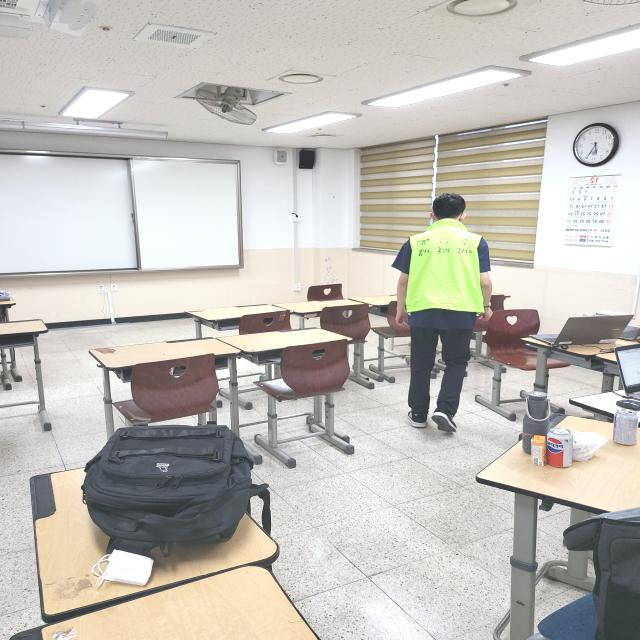weston_spy: (397, 214, 494, 321)
